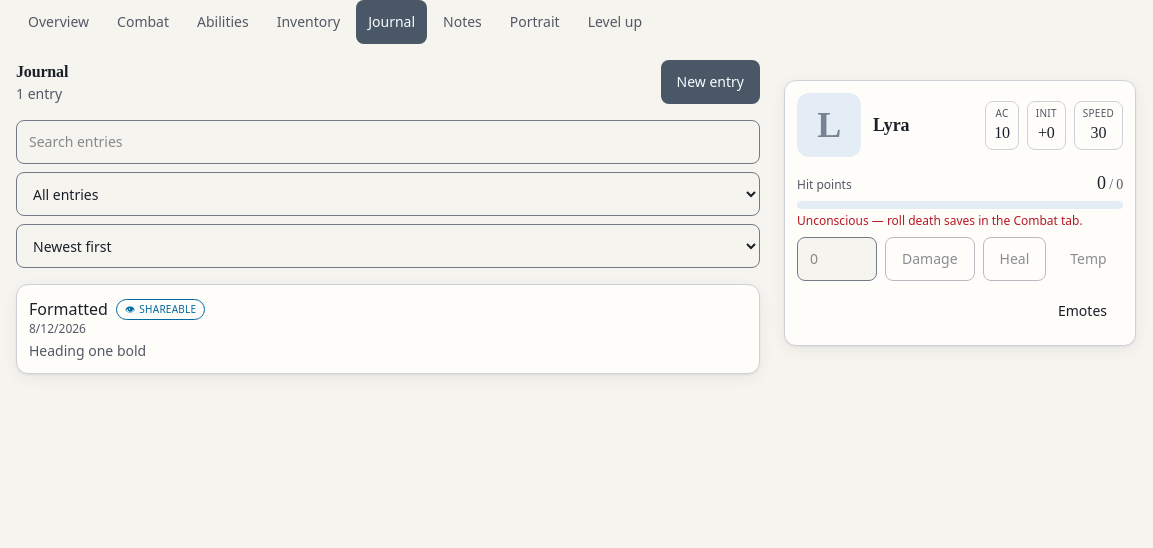
Scenario: journal entries › renders rich text in the entry body
Click the text "Formatted" at {"x": 68, "y": 309}, box [29,297,108,321]
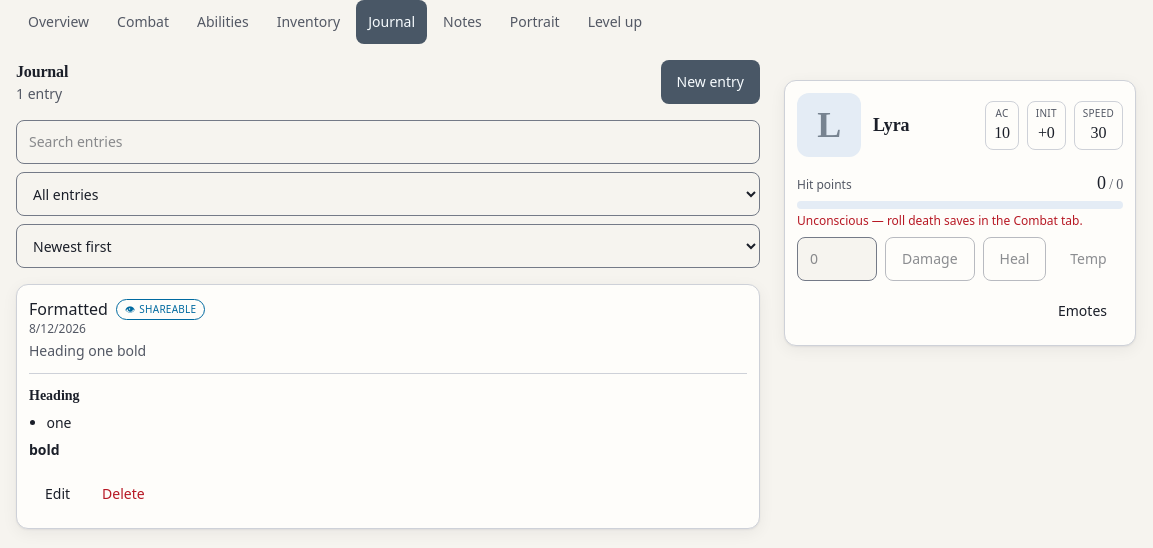
Expected: the heading "Heading" is shown, [29,388,80,403]
Expected: the list item "one" is shown, [46,413,72,432]
Expected: the text "bold" is shown, [29,440,60,459]
